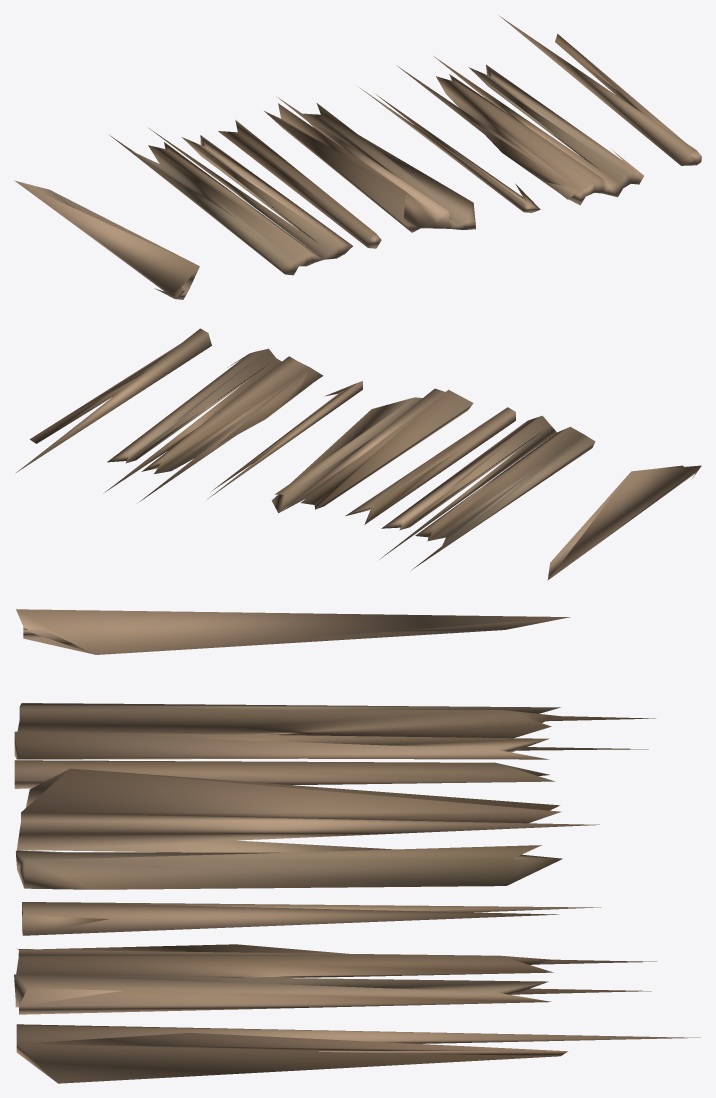
The model's file is muelle_troncos_lejos.glb.
3 renders of one model, top to bottom at view 1: azimuth 30°, elevation 25°; view 2: azimuth 150°, elevation 25°; view 3: azimuth 270°, elevation 25°, orthographic. The views are drawn at different scales.
Visible parts, largest first — view 1: muelle_troncos_lejos; view 2: muelle_troncos_lejos; view 3: muelle_troncos_lejos.
Part boxes in pixels (box(x1,y1,x2,y2)): muelle_troncos_lejos: box(14, 15, 701, 299); muelle_troncos_lejos: box(15, 328, 701, 580); muelle_troncos_lejos: box(14, 609, 700, 1083).
Bounding box in the file's own units: 6.2 × 0.453 × 3.89.
